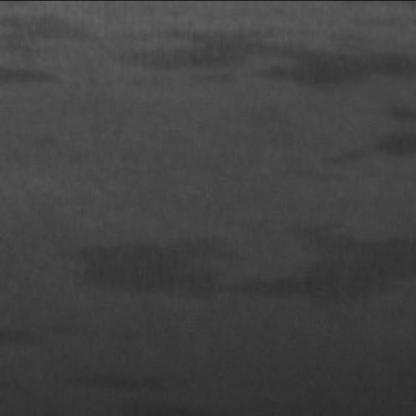inclusion: (71, 216, 414, 296), (123, 25, 412, 79), (54, 358, 200, 399), (322, 122, 416, 171), (2, 56, 67, 90)
